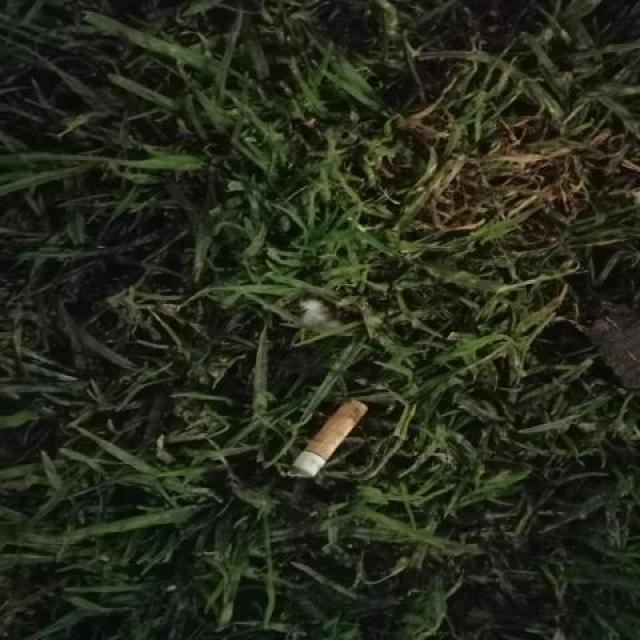non-organic waste: (284, 392, 371, 483)
